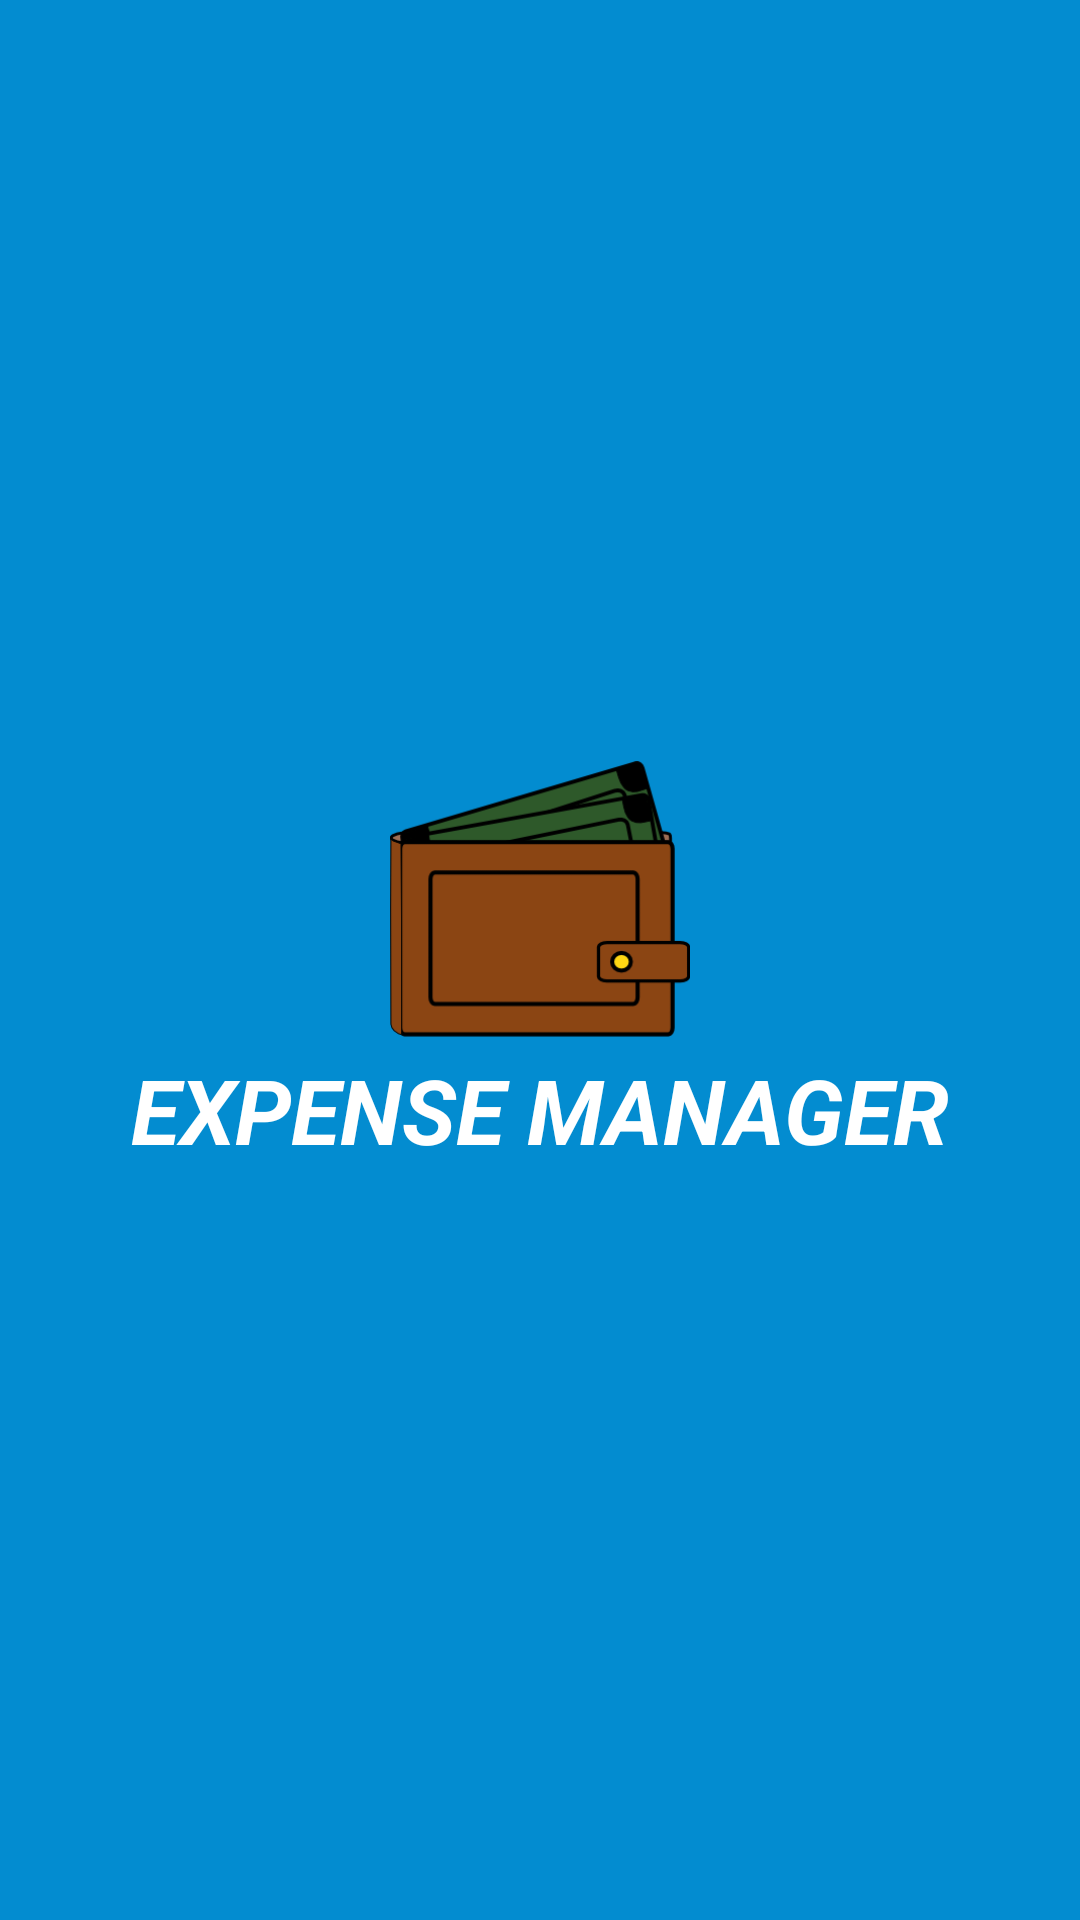

Screen size 1080×1920. Icon name, then its center in pixels as point (x, y):
wallet: point (540, 899)
